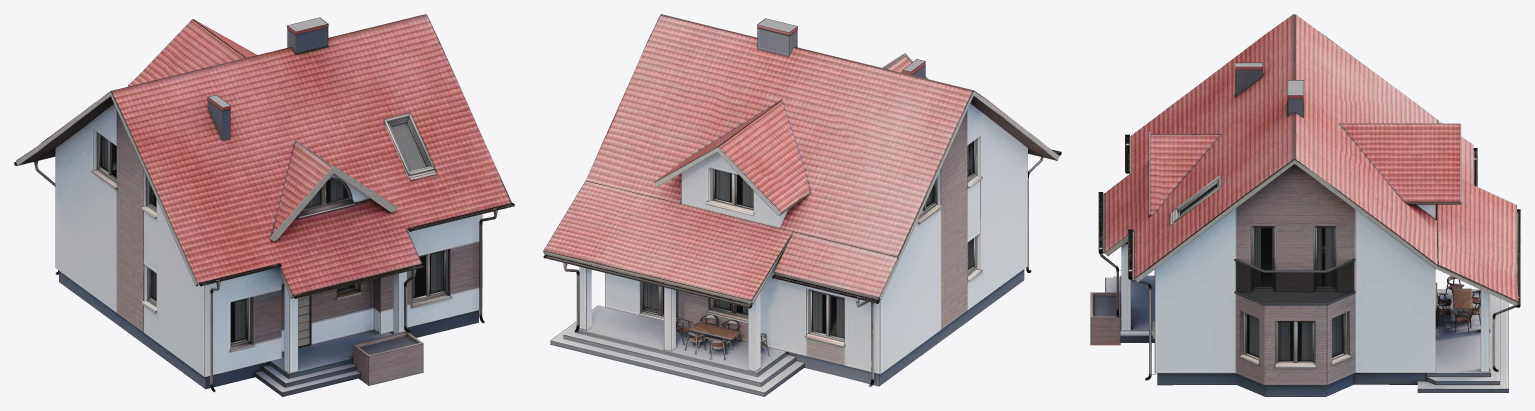
The model's file is house-transformed.glb.
3 renders of one model, left to right at view 1: azimuth 30°, elevation 25°; view 2: azimuth 150°, elevation 25°; view 3: azimuth 270°, elevation 25°, orthographic. The views are drawn at different scales.
Visible parts, largest first — view 1: Object029_Material #2125644136_0, Object030_CRN.cgaxis_models_46_15_03_0, Object030_CRN.cgaxis_models_46_14_03_0, Line017_Material #2125644137_0; view 2: Object029_Material #2125644136_0, Object030_CRN.cgaxis_models_46_15_03_0, Line017_Material #2125644137_0; view 3: Object029_Material #2125644136_0, Object030_CRN.Solid Glass_0, Object030_CRN.cgaxis_models_46_14_03_0, Line017_Material #2125644137_0, Object030_CRN.cgaxis_models_46_15_03_0.
Boxes of the visible parts, bbox=[...] form: Object029_Material #2125644136_0: bbox=[14, 14, 514, 396]; Object030_CRN.cgaxis_models_46_15_03_0: bbox=[100, 135, 443, 297]; Object030_CRN.cgaxis_models_46_14_03_0: bbox=[150, 122, 426, 342]; Line017_Material #2125644137_0: bbox=[104, 137, 443, 340]; Object029_Material #2125644136_0: bbox=[543, 14, 1061, 396]; Object030_CRN.cgaxis_models_46_15_03_0: bbox=[643, 169, 933, 337]; Line017_Material #2125644137_0: bbox=[644, 145, 980, 337]; Object029_Material #2125644136_0: bbox=[1090, 14, 1520, 396]; Object030_CRN.Solid Glass_0: bbox=[1236, 261, 1353, 303]; Object030_CRN.cgaxis_models_46_14_03_0: bbox=[1180, 184, 1343, 357]; Line017_Material #2125644137_0: bbox=[1249, 227, 1342, 360]; Object030_CRN.cgaxis_models_46_15_03_0: bbox=[1278, 322, 1312, 360].
Bounding box in the file's own units: 11.49 × 9.11 × 13.96.
5 materials, 2 textured.
